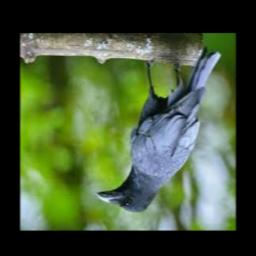Crow: (96, 47, 221, 213)
